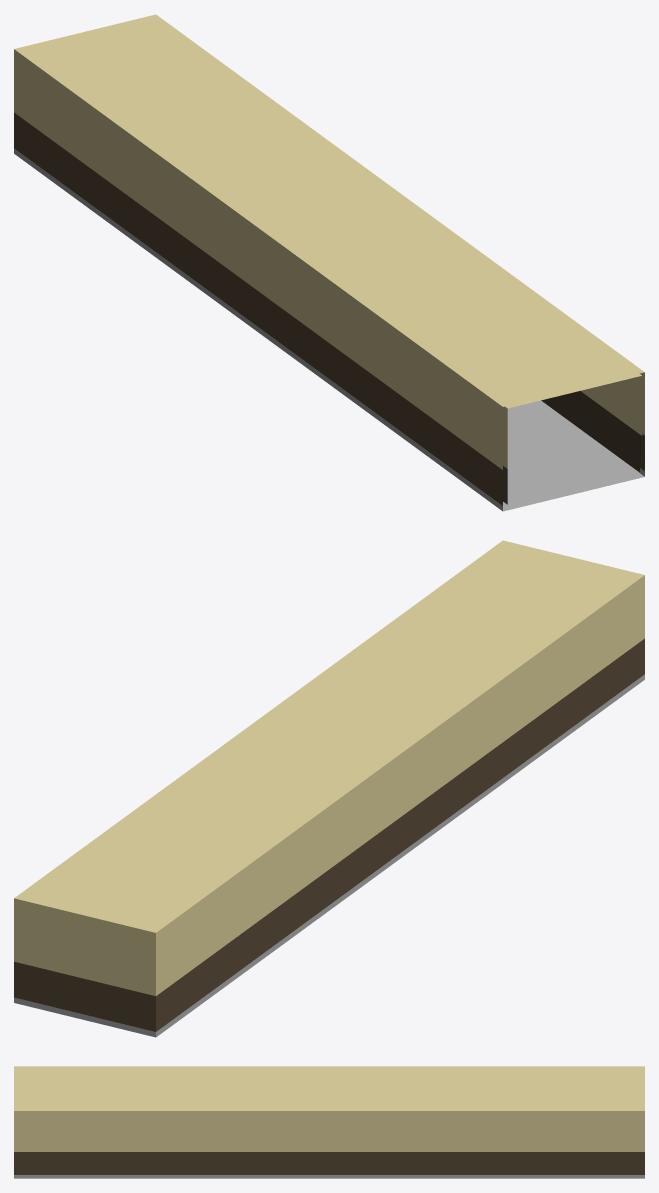
File: interior_mainMenu_schoolRoom.fbx
The picture shows the model from 3 angles, top to bottom: view 1: azimuth 30°, elevation 25°; view 2: azimuth 150°, elevation 25°; view 3: azimuth 270°, elevation 25°; orthographic projection. The views are drawn at different scales.
Visible parts, largest first — view 1: Visible Mesh; view 2: Visible Mesh; view 3: Visible Mesh.
Boxes of the visible parts, left/top/right/bottom form: Visible Mesh: left=14, top=14, right=644, bottom=511; Visible Mesh: left=14, top=540, right=644, bottom=1037; Visible Mesh: left=14, top=1066, right=644, bottom=1178.
Bounding box in the file's own units: 540 × 380 × 3220.
